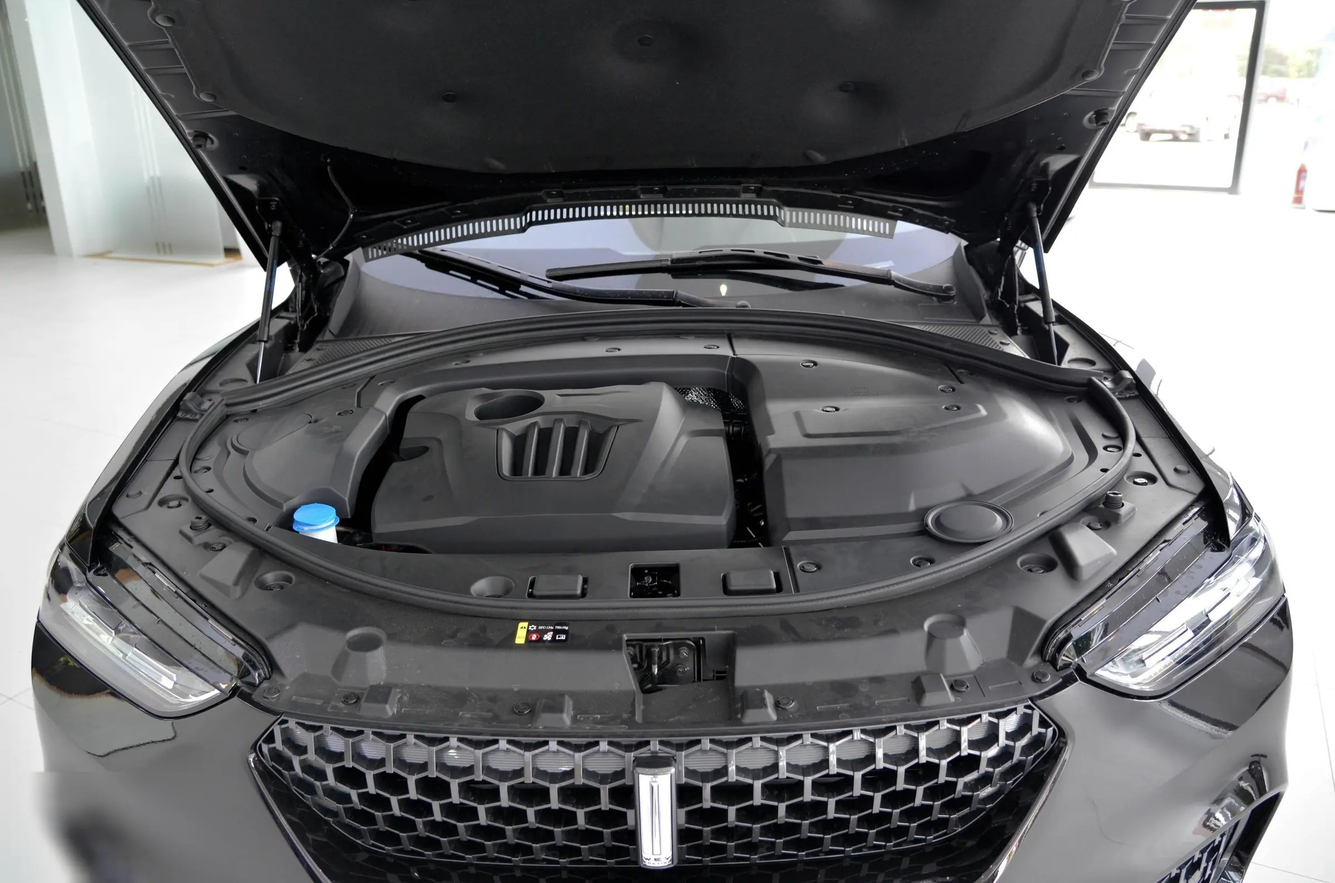WEY: (639, 774, 671, 866)
